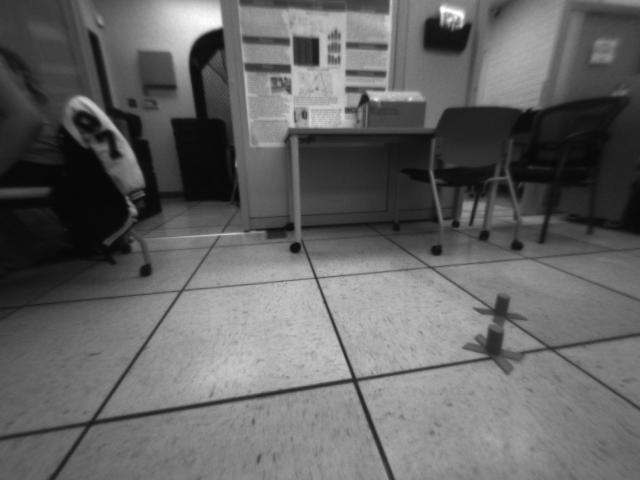X: (462, 323, 529, 377), (472, 291, 531, 330)
